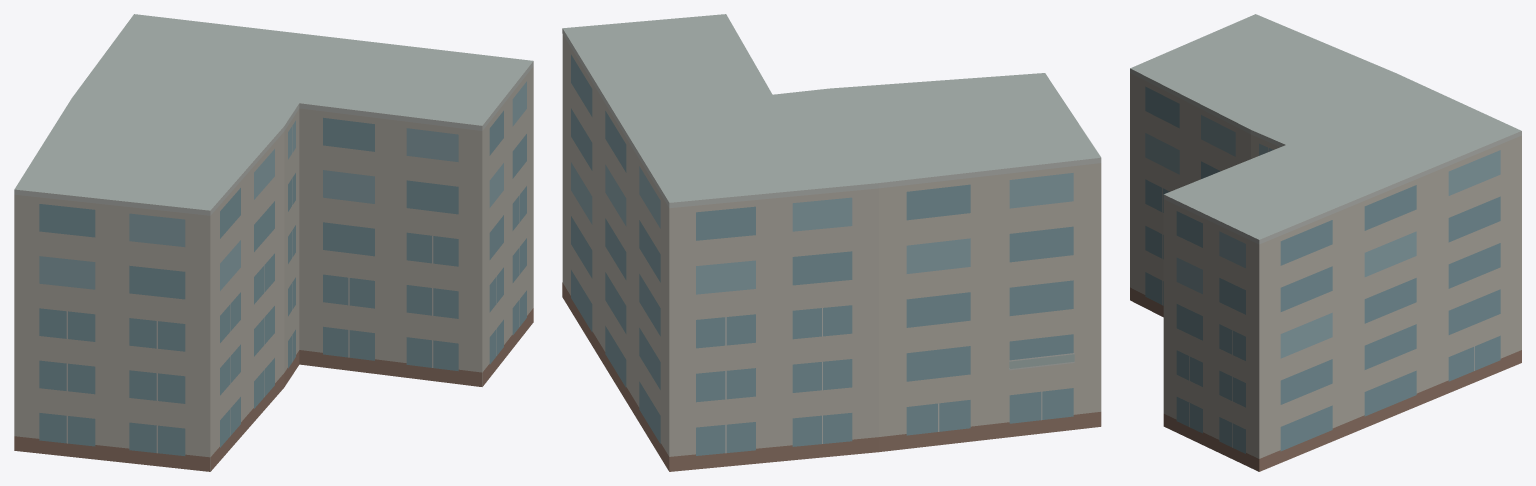
The model's file is survey-upis-32969580.glb.
The picture shows the model from 3 angles, left to right: view 1: azimuth 30°, elevation 25°; view 2: azimuth 150°, elevation 25°; view 3: azimuth 270°, elevation 25°; orthographic projection. The views are drawn at different scales.
Visible parts, largest first — view 1: survey-upis-32969580.tmp; view 2: survey-upis-32969580.tmp; view 3: survey-upis-32969580.tmp.
Part boxes in pixels (<box>): survey-upis-32969580.tmp: <box>14,14,533,471</box>; survey-upis-32969580.tmp: <box>562,14,1101,471</box>; survey-upis-32969580.tmp: <box>1130,14,1521,471</box>.
Size of the model in its own units: 25.7 by 12.3 by 18.83.
